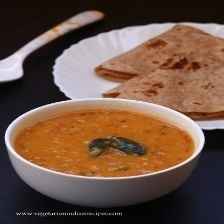roti: (92, 23, 224, 122)
